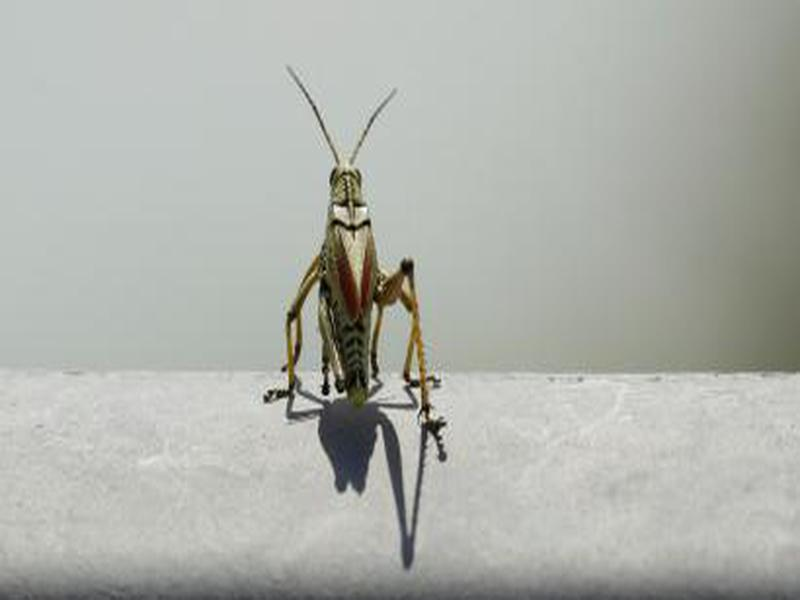Grasshopper: (219, 121, 460, 522)
